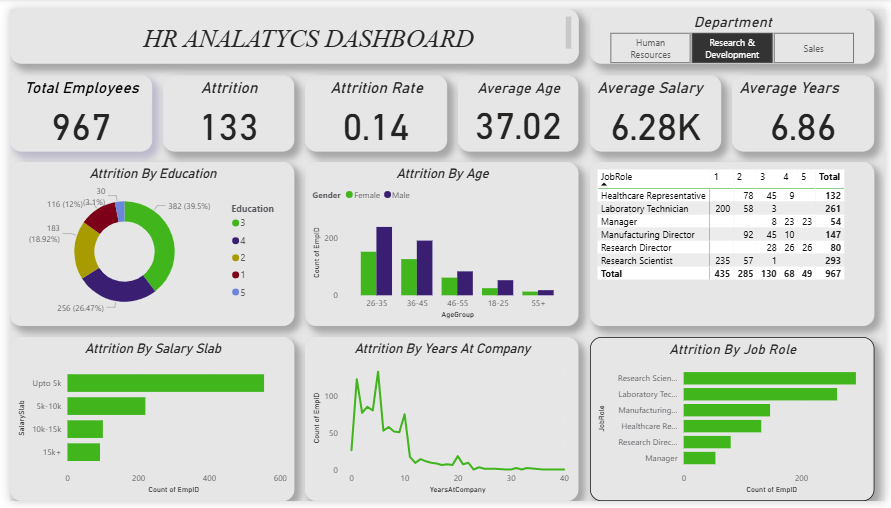

The dashboard page shown, as its layout file describes it:
{"tool":"powerbi","page":{"name":"Page 1","canvas":[1280,720],"ordinal":0},"visuals":[{"type":"card","title":"Total Employees","fields":{"Values":["CountNonNull(HR_Employee_Attrition_Data csv.EmpID)"]},"box":[0,96,208,112],"z":0},{"type":"card","title":"Attrition","fields":{"Values":["HR_Employee_Attrition_Data csv.Attrition Count"]},"box":[224,96,192,112],"z":1},{"type":"card","title":"Attrition Rate","fields":{"Values":["HR_Employee_Attrition_Data csv.Attrition Rate"]},"box":[432,96,208,112],"z":2},{"type":"card","title":"Average Age","fields":{"Values":["Avg(HR_Employee_Attrition_Data csv.Age)"]},"box":[656,96,176,112],"z":3},{"type":"card","title":"Average Salary","fields":{"Values":["Avg(HR_Employee_Attrition_Data csv.MonthlyIncome)"]},"box":[848,96,192,112],"z":4},{"type":"card","title":"Average Years","fields":{"Values":["Avg(HR_Employee_Attrition_Data csv.YearsAtCompany)"]},"box":[1056,96,208,112],"z":5},{"type":"slicer","title":"Department","fields":{"Values":["HR_Employee_Attrition_Data csv.Department"]},"box":[848,0,416,80],"z":6},{"type":"clusteredColumnChart","title":"Attrition By Age","fields":{"Category":["HR_Employee_Attrition_Data csv.AgeGroup"],"Y":["CountNonNull(HR_Employee_Attrition_Data csv.EmpID)"],"Series":["HR_Employee_Attrition_Data csv.Gender"]},"box":[432,224,400,240],"z":7},{"type":"donutChart","title":"Attrition By Education","fields":{"Y":["CountNonNull(HR_Employee_Attrition_Data csv.EmpID)"],"Category":["HR_Employee_Attrition_Data csv.Education"]},"box":[0,224,416,240],"z":8},{"type":"clusteredBarChart","title":"Attrition By Salary Slab","fields":{"Y":["CountNonNull(HR_Employee_Attrition_Data csv.EmpID)"],"Category":["HR_Employee_Attrition_Data csv.SalarySlab"]},"box":[0,480,416,240],"z":9},{"type":"pivotTable","fields":{"Values":["CountNonNull(HR_Employee_Attrition_Data csv.EmpID)"],"Rows":["HR_Employee_Attrition_Data csv.JobRole"],"Columns":["HR_Employee_Attrition_Data csv.JobLevel"]},"box":[848,224,416,240],"z":10},{"type":"lineChart","title":"Attrition By Years At Company","fields":{"Y":["CountNonNull(HR_Employee_Attrition_Data csv.EmpID)"],"Category":["HR_Employee_Attrition_Data csv.YearsAtCompany"]},"box":[432,480,400,240],"z":11},{"type":"barChart","title":"Attrition By Job Role","fields":{"Category":["HR_Employee_Attrition_Data csv.JobRole"],"Y":["CountNonNull(HR_Employee_Attrition_Data csv.EmpID)"]},"box":[848,480,416,240],"z":12},{"type":"textbox","box":[0,0,832,80],"z":14}]}

Visuals, with their boxes in screenshot pixels (x1, y1, x2, y2), scaled from the page's 1280x720 canvas onto the 891x508 screenshot:
"Total Employees" card: left=0, top=68, right=145, bottom=147
"Attrition" card: left=156, top=68, right=290, bottom=147
"Attrition Rate" card: left=301, top=68, right=446, bottom=147
"Average Age" card: left=457, top=68, right=579, bottom=147
"Average Salary" card: left=590, top=68, right=724, bottom=147
"Average Years" card: left=735, top=68, right=880, bottom=147
"Department" slicer: left=590, top=0, right=880, bottom=56
"Attrition By Age" clusteredColumnChart: left=301, top=158, right=579, bottom=327
"Attrition By Education" donutChart: left=0, top=158, right=290, bottom=327
"Attrition By Salary Slab" clusteredBarChart: left=0, top=339, right=290, bottom=507
pivotTable - CountNonNull(HR_Employee_Attrition_Data csv.EmpID) x HR_Employee_Attrition_Data csv.JobRole: left=590, top=158, right=880, bottom=327
"Attrition By Years At Company" lineChart: left=301, top=339, right=579, bottom=507
"Attrition By Job Role" barChart: left=590, top=339, right=880, bottom=507
textbox: left=0, top=0, right=579, bottom=56
